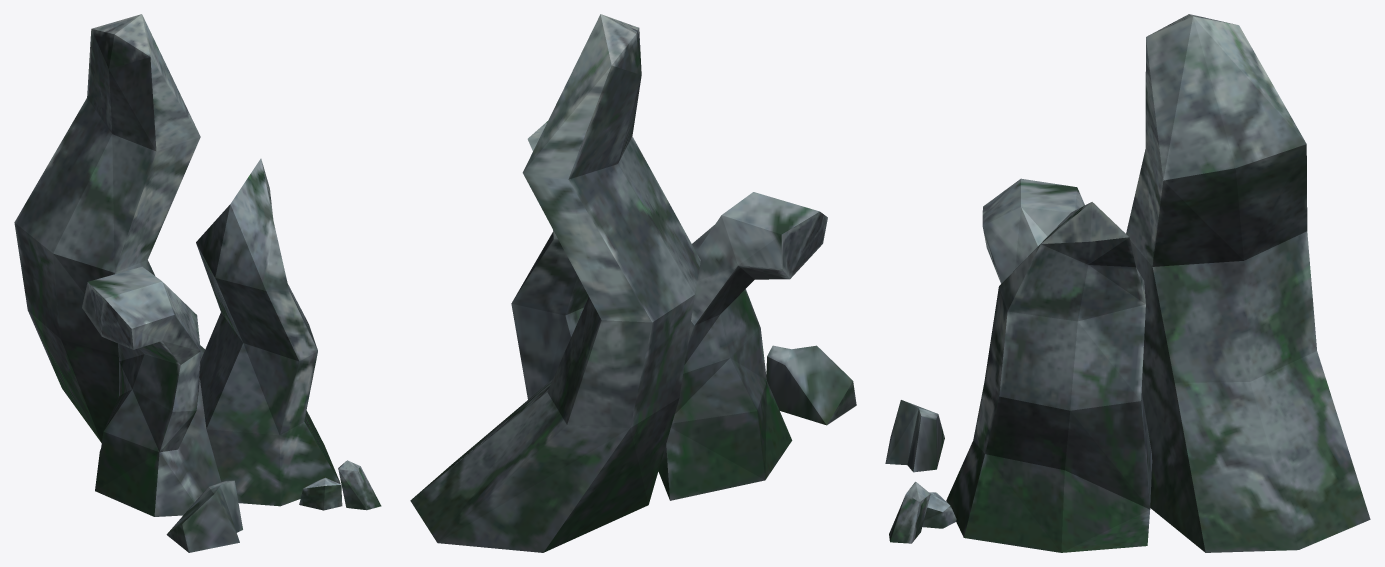
The model's file is stemple_tentacle_05.fbx.
3 renders of one model, left to right at view 1: azimuth 30°, elevation 25°; view 2: azimuth 150°, elevation 25°; view 3: azimuth 270°, elevation 25°, orthographic. The views are drawn at different scales.
Parts seen in each view (by area): view 1: obj0.026; view 2: obj0.026; view 3: obj0.026.
Boxes of the visible parts, x1,y1,x2,y2 form: obj0.026: [14, 14, 381, 552]; obj0.026: [410, 14, 856, 552]; obj0.026: [885, 14, 1370, 552].
Size of the model in its own units: 2.44 by 4.1 by 3.85.
